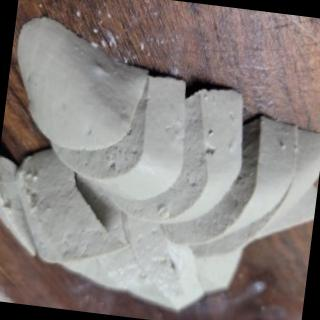Tahu: (1, 17, 320, 312)
